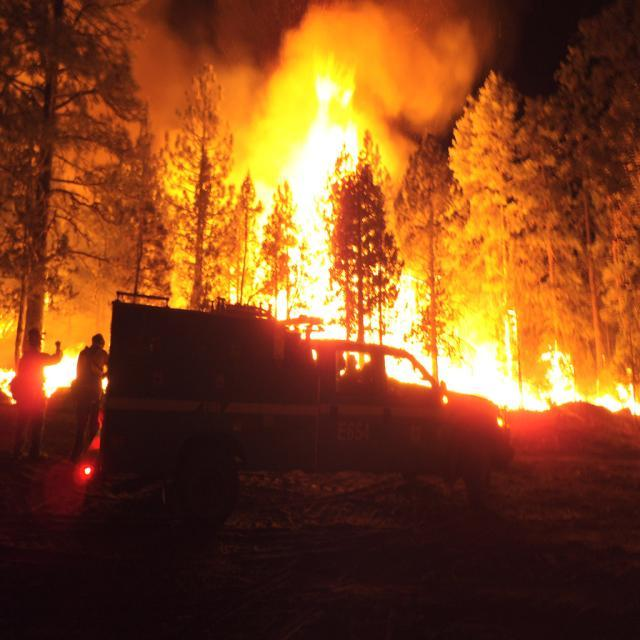Fire: (444, 346, 578, 406), (290, 120, 354, 190), (302, 206, 338, 328)
